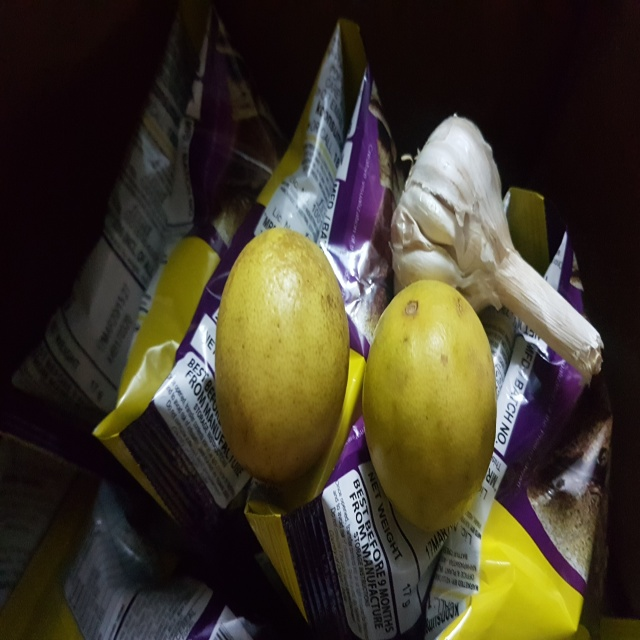lemon: (202, 223, 358, 494), (362, 263, 506, 546)
